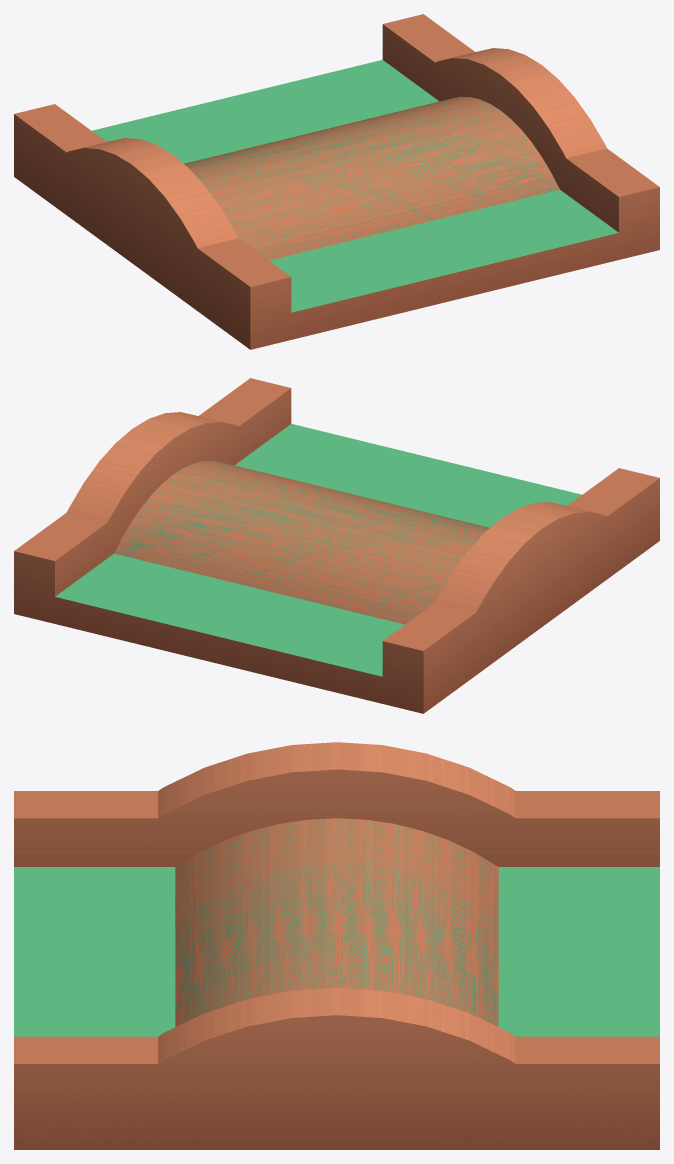
Rendered from hill-round.glb.
3 renders of one model, top to bottom at view 1: azimuth 30°, elevation 25°; view 2: azimuth 150°, elevation 25°; view 3: azimuth 270°, elevation 25°, orthographic. The views are drawn at different scales.
Parts seen in each view (by area): view 1: hill-round; view 2: hill-round; view 3: hill-round.
Boxes of the visible parts, x1=… form: hill-round: x1=14, y1=14, x2=659, y2=349; hill-round: x1=14, y1=378, x2=659, y2=713; hill-round: x1=14, y1=742, x2=659, y2=1149.
Bounding box in the file's own units: 0.9999 × 0.23 × 0.9999.
Materials: 1 (1 with a texture image).
